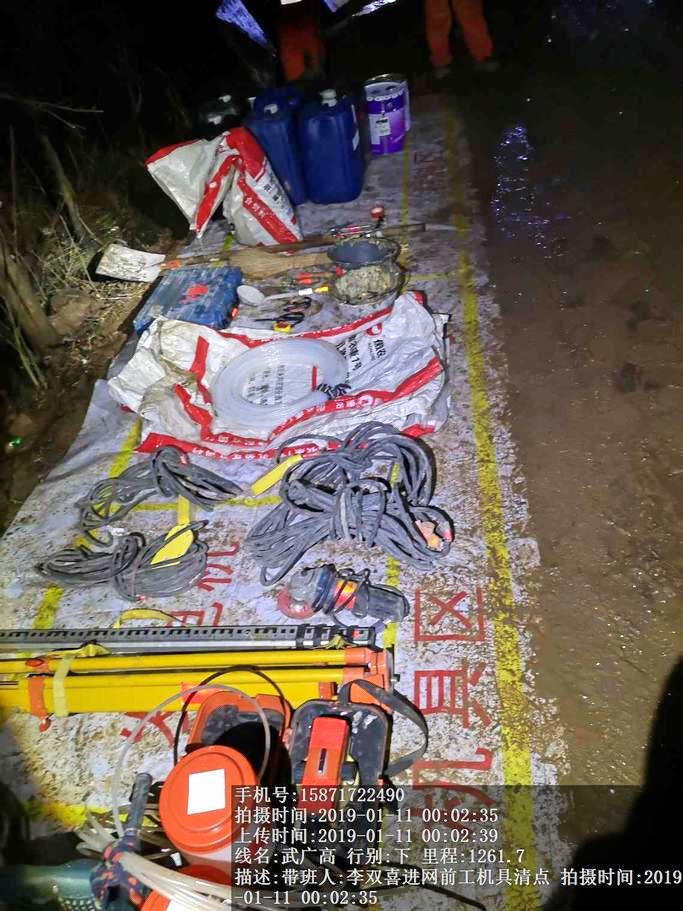BZD: (103, 315, 461, 441)
SG: (209, 341, 358, 425)
SLT: (283, 83, 370, 205)
SNT: (330, 260, 403, 319)
